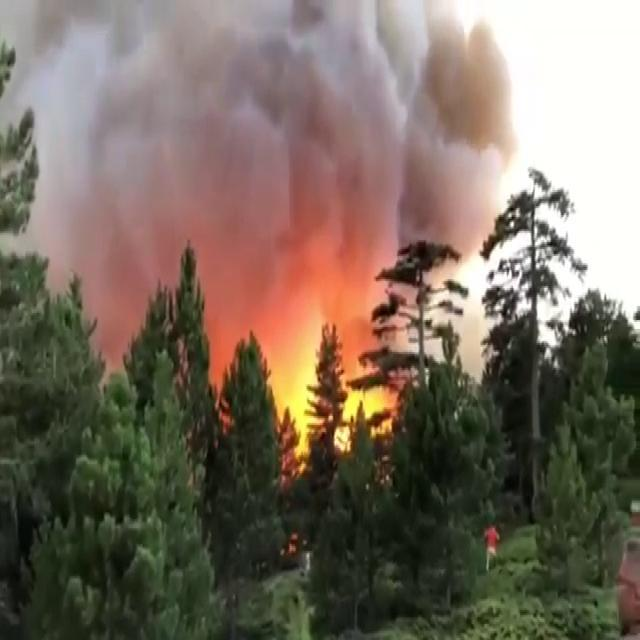Fire: (240, 256, 378, 458), (218, 353, 396, 487)
Smoke: (18, 0, 434, 222), (360, 26, 521, 230), (37, 168, 167, 346)
